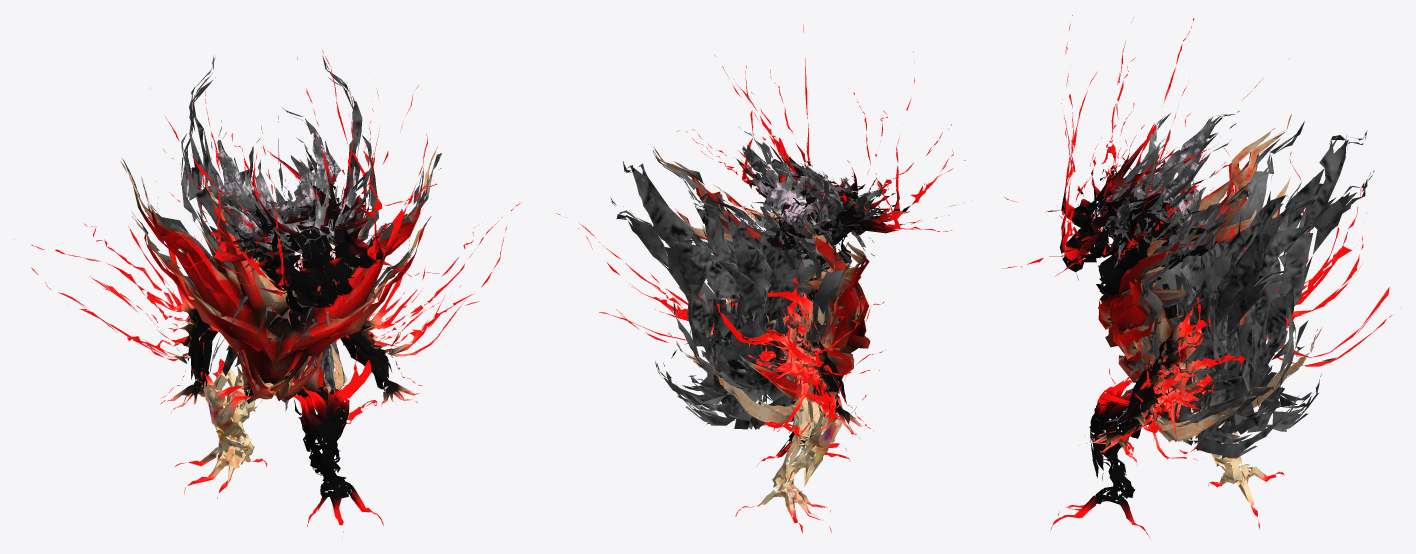
File: SuanNi.glb
3 renders of one model, left to right at view 1: azimuth 30°, elevation 25°; view 2: azimuth 150°, elevation 25°; view 3: azimuth 270°, elevation 25°, orthographic. The views are drawn at different scales.
Visible parts, largest first — view 1: suan-ni-torso_Baked, Retopo_head.003_Baked, suan-ni-back_Baked, suan-ni-crown_Baked, 04_leg_Baked, 04_R_arm, 04_arm_Baked, 04_R_leg; view 2: suan-ni-back_Baked, suan-ni-torso_Baked, suan-ni-crown_Baked, Retopo_head.003_Baked, 04_R_arm, 04_R_leg, 04_arm_Baked; view 3: suan-ni-back_Baked, suan-ni-torso_Baked, Retopo_head.003_Baked, suan-ni-crown_Baked, 04_arm_Baked, 04_leg_Baked, 04_R_arm, 04_R_leg.
Part boxes in pixels (<box>): suan-ni-torso_Baked: <box>120,146,437,403</box>; Retopo_head.003_Baked: <box>150,50,441,321</box>; suan-ni-back_Baked: <box>122,55,441,420</box>; suan-ni-crown_Baked: <box>199,107,373,282</box>; 04_leg_Baked: <box>292,349,383,532</box>; 04_R_arm: <box>14,175,237,413</box>; 04_arm_Baked: <box>340,203,520,406</box>; 04_R_leg: <box>175,352,267,498</box>; suan-ni-back_Baked: <box>610,150,864,429</box>; suan-ni-torso_Baked: <box>653,146,870,425</box>; suan-ni-crown_Baked: <box>733,126,883,256</box>; Retopo_head.003_Baked: <box>676,25,971,271</box>; 04_R_arm: <box>706,188,885,453</box>; 04_R_leg: <box>735,382,842,532</box>; 04_arm_Baked: <box>556,206,775,346</box>; suan-ni-back_Baked: <box>1104,121,1374,458</box>; suan-ni-torso_Baked: <box>1098,114,1322,442</box>; Retopo_head.003_Baked: <box>1002,15,1288,296</box>; suan-ni-crown_Baked: <box>1092,111,1239,272</box>; 04_arm_Baked: <box>1079,283,1244,465</box>; 04_leg_Baked: <box>1050,376,1149,537</box>; 04_R_arm: <box>1188,136,1401,366</box>; 04_R_leg: <box>1191,381,1286,528</box>.
Size of the model in its own units: 2.52 by 2.69 by 1.95.
9 materials, 8 textured.
